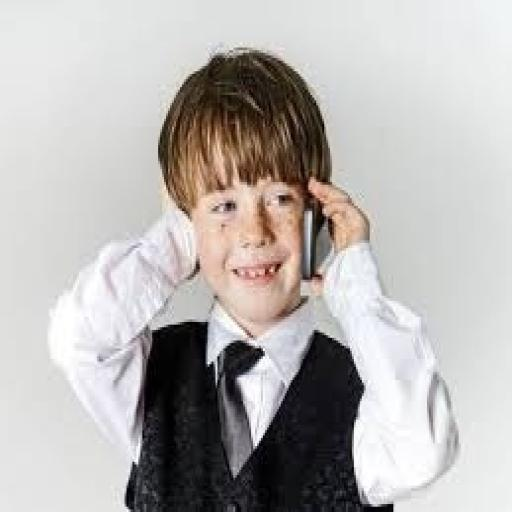calling: (46, 45, 460, 509)
